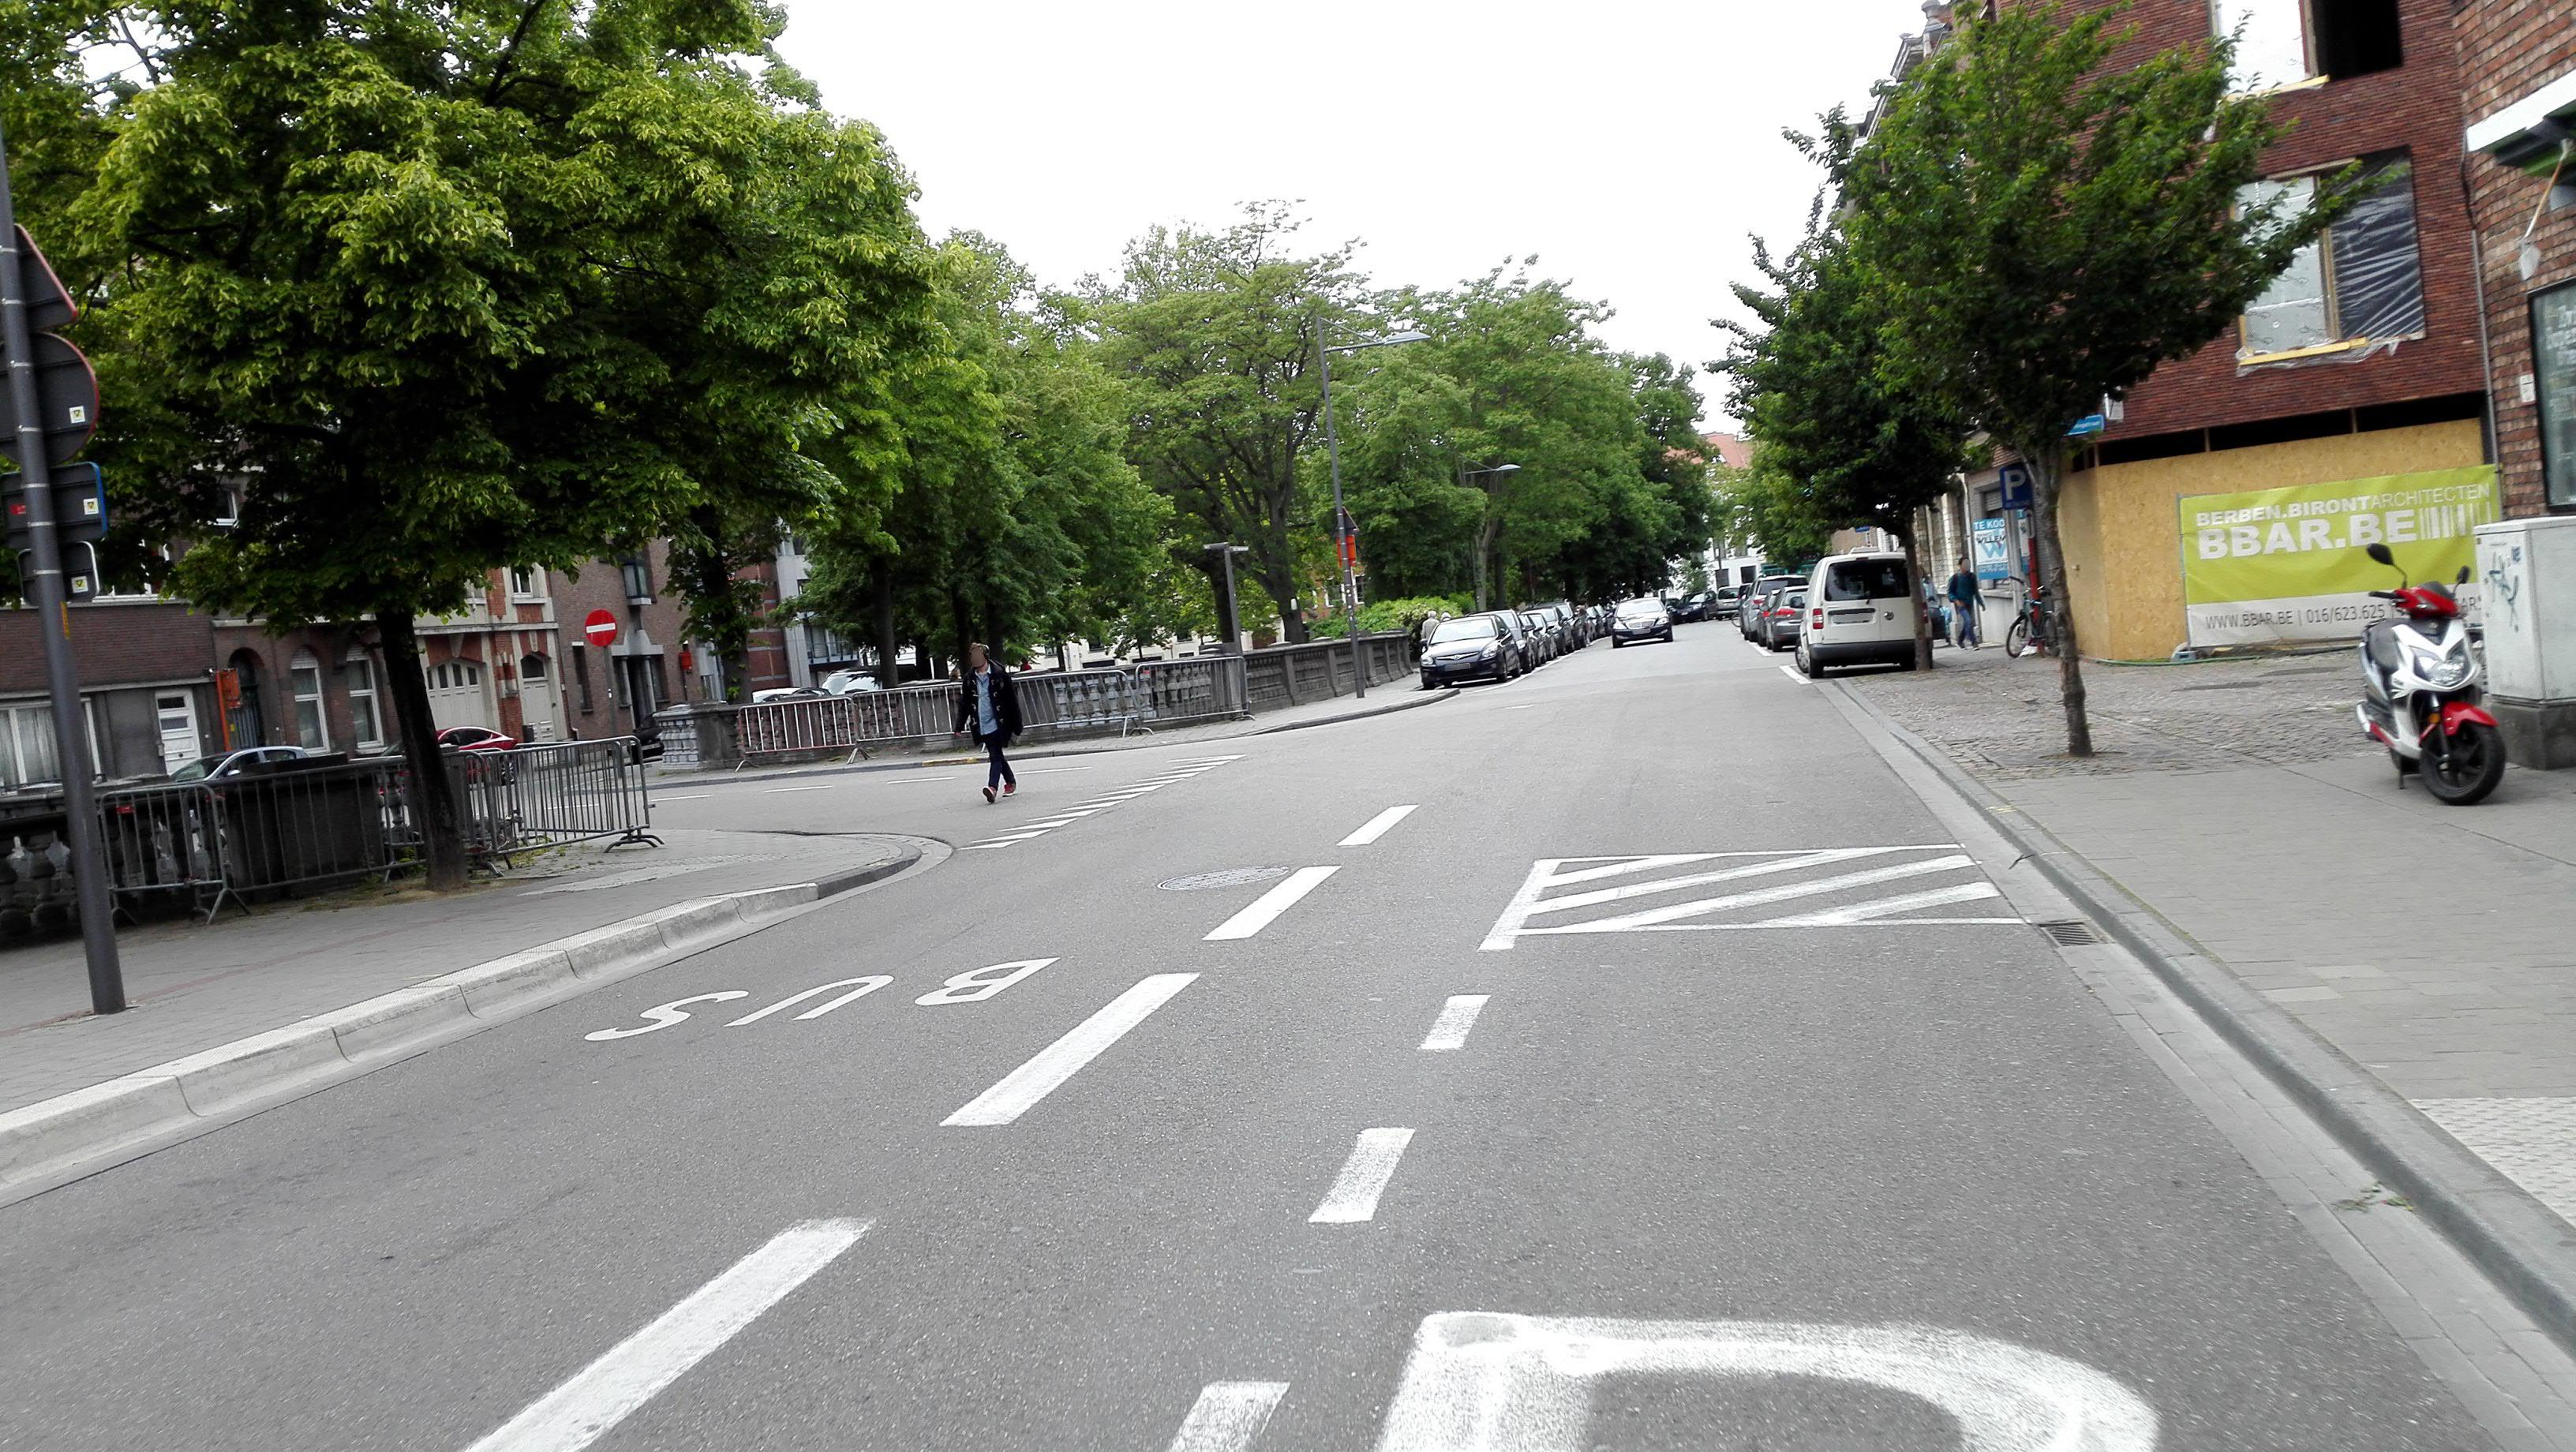vinyl banner: (2162, 437, 2528, 653)
